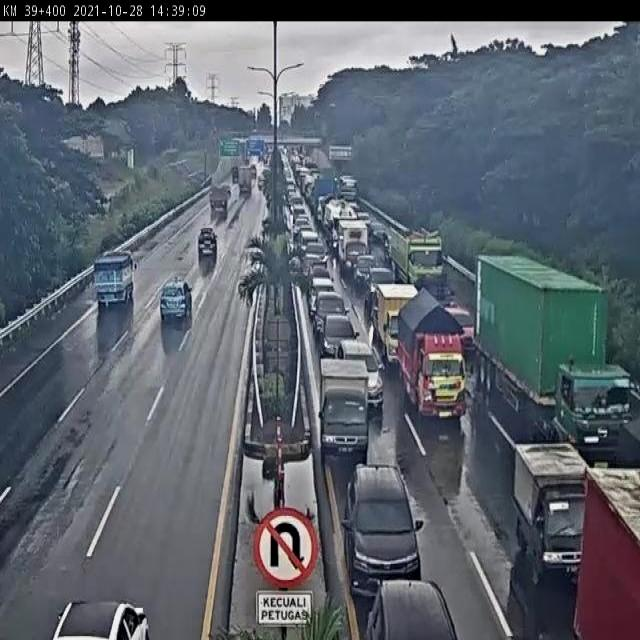Car: (353, 468, 419, 583), (373, 583, 449, 640), (54, 605, 150, 640), (321, 318, 359, 352), (160, 288, 192, 320), (316, 294, 346, 328), (306, 244, 324, 273), (199, 230, 215, 262), (294, 217, 311, 240), (298, 232, 318, 249), (294, 200, 306, 215)
Truck: (480, 258, 634, 456), (515, 448, 592, 577), (396, 292, 468, 418), (321, 360, 368, 453), (387, 226, 446, 286), (97, 254, 137, 304), (336, 222, 366, 274), (317, 178, 359, 202), (209, 182, 236, 211), (238, 165, 253, 198)
